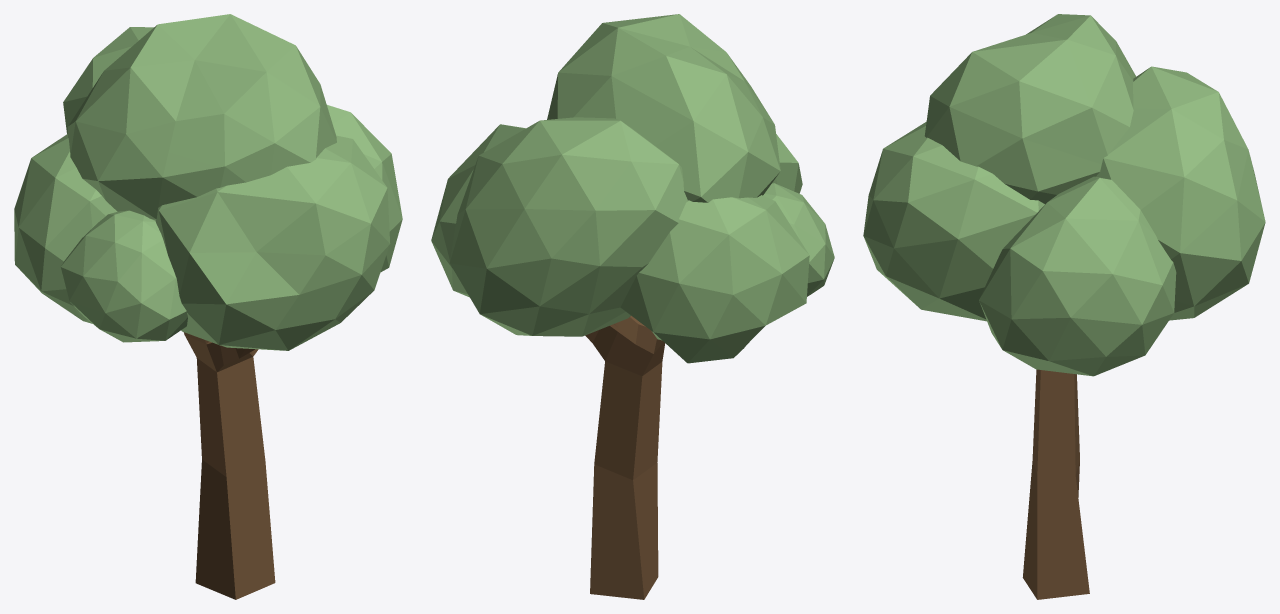
File: f_long_oak_tree3.fbx
The picture shows the model from 3 angles, left to right: view 1: azimuth 30°, elevation 25°; view 2: azimuth 150°, elevation 25°; view 3: azimuth 270°, elevation 25°; orthographic projection. The views are drawn at different scales.
Parts seen in each view (by area): view 1: OakTree3; view 2: OakTree3; view 3: OakTree3.
Boxes of the visible parts, x1,y1,x2,y2 form: OakTree3: (14,14,402,599); OakTree3: (431,14,834,599); OakTree3: (863,14,1265,599).
Size of the model in its own units: 1382 by 2132 by 1423.
